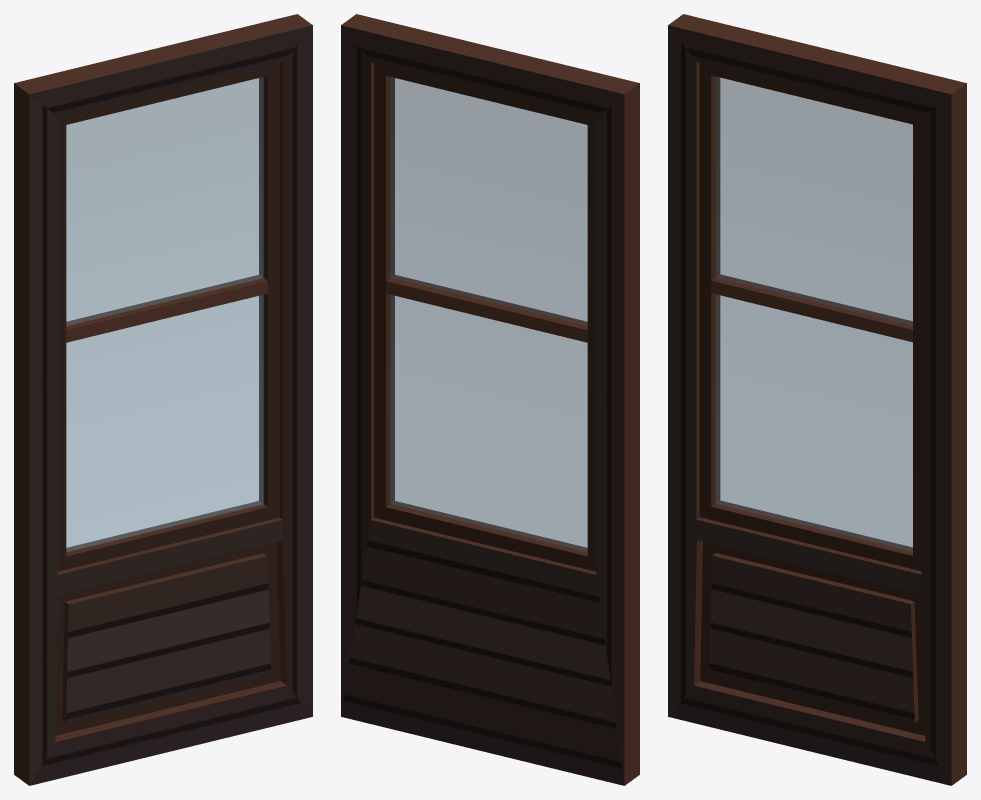
Rendered from Door 7.glb.
3 views of the same model, side by side, from view 1: azimuth 30°, elevation 25°; view 2: azimuth 150°, elevation 25°; view 3: azimuth 330°, elevation 25° (orthographic).
Parts seen in each view (by area): view 1: Door 7A; view 2: Door 7A; view 3: Door 7A.
Part boxes in pixels (box(x1,y1,x2,y2)): Door 7A: box(14, 14, 312, 785); Door 7A: box(341, 14, 639, 785); Door 7A: box(668, 14, 966, 785).
Size of what is drawn, in the model's own units: 0.9761 by 2.27 by 0.0917.
Materials: 3 (3 with a texture image).
